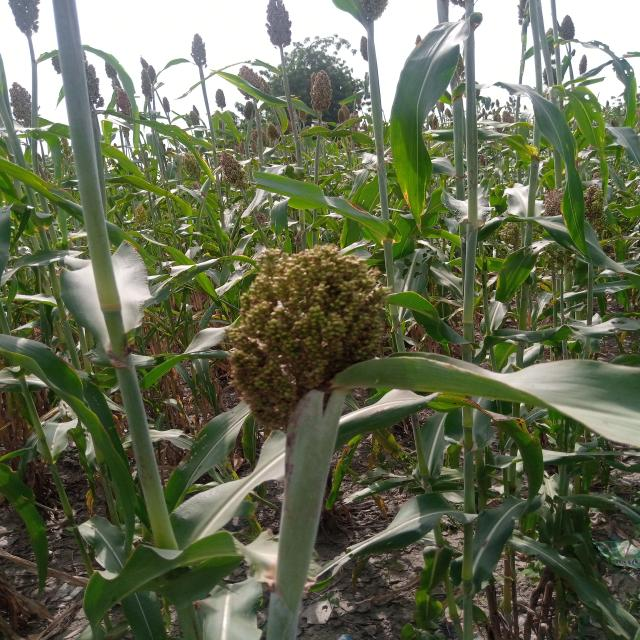UnripeSorghum: (183, 226, 450, 424)
